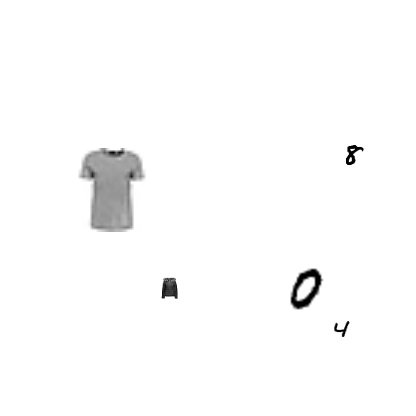3: (49, 361, 63, 375)
7: (220, 110, 304, 194)
9: (329, 224, 413, 308)
Coat: (1, 109, 23, 131)
Dress: (43, 17, 85, 59), (157, 135, 171, 149)
